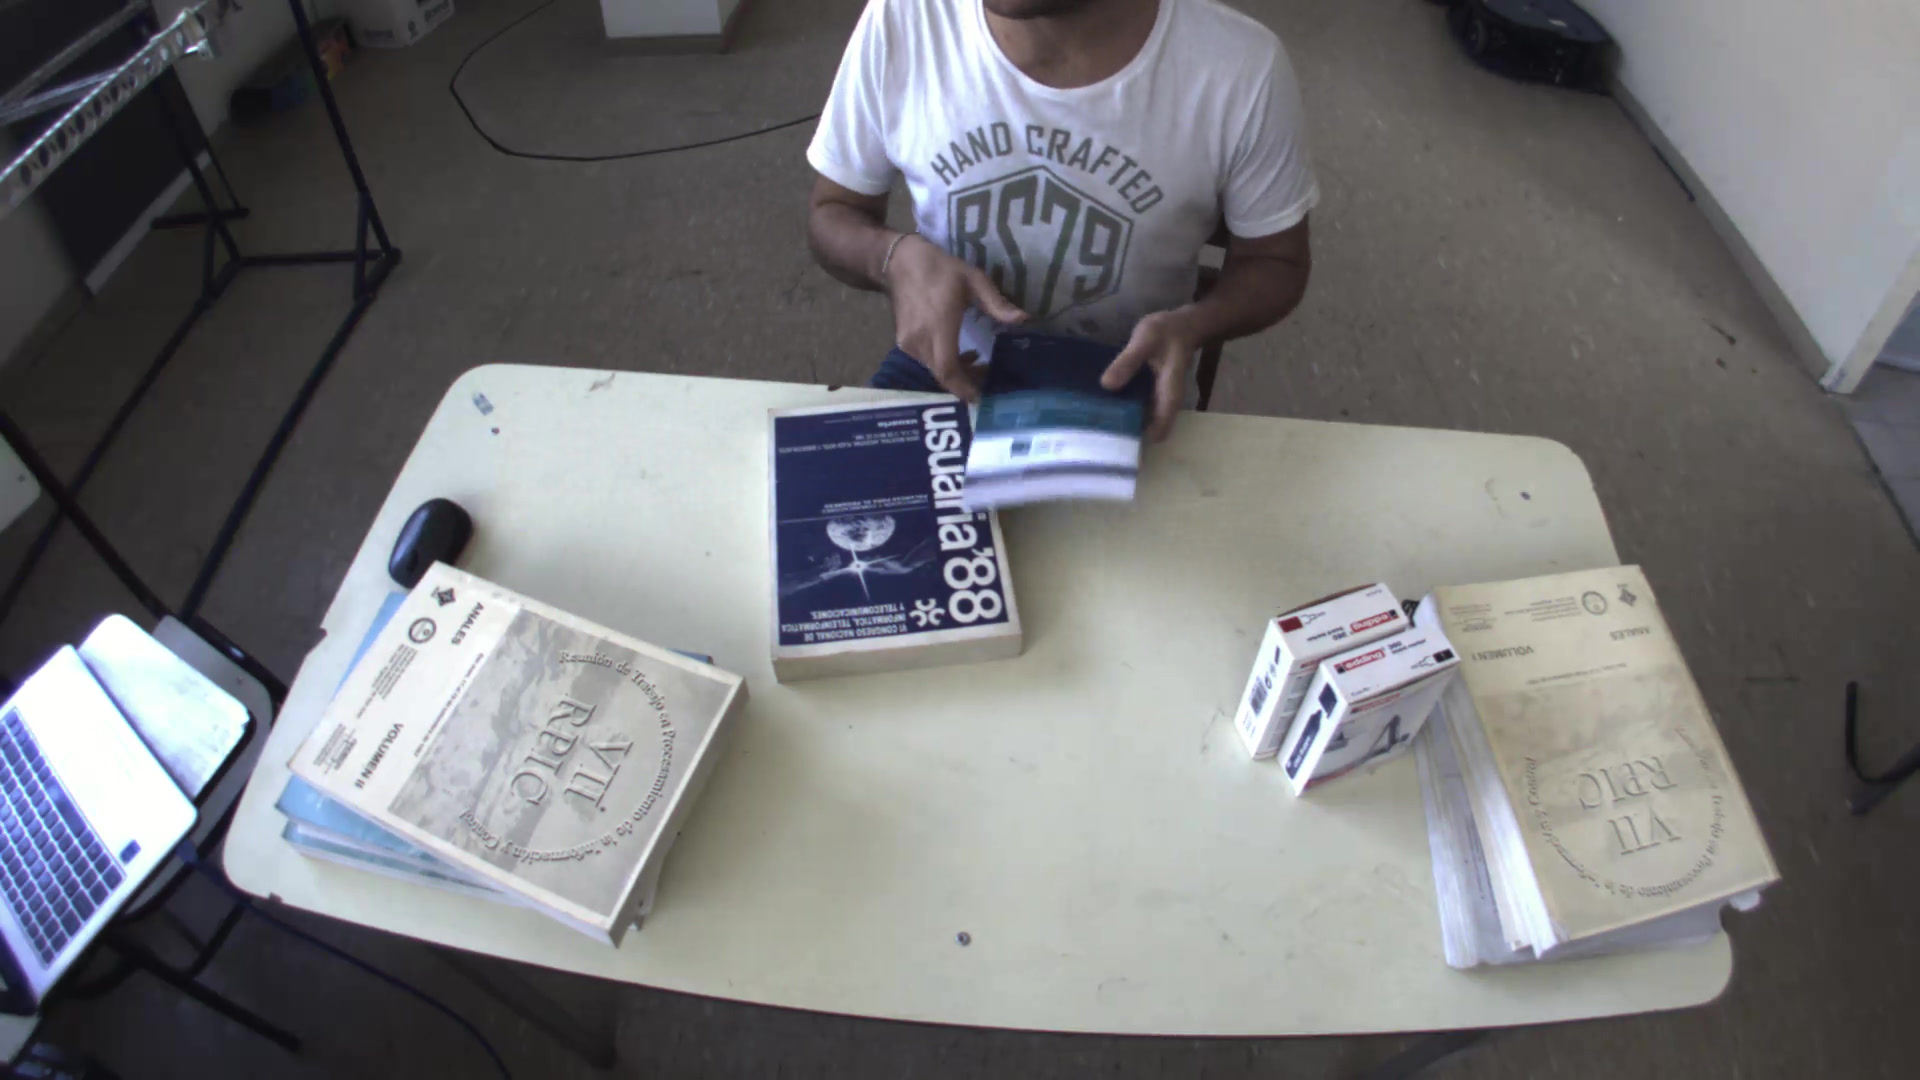hand: (881, 231, 1033, 397), (1098, 290, 1212, 438)
